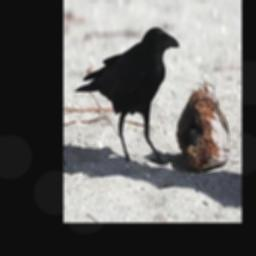Crow: (73, 26, 180, 166)
